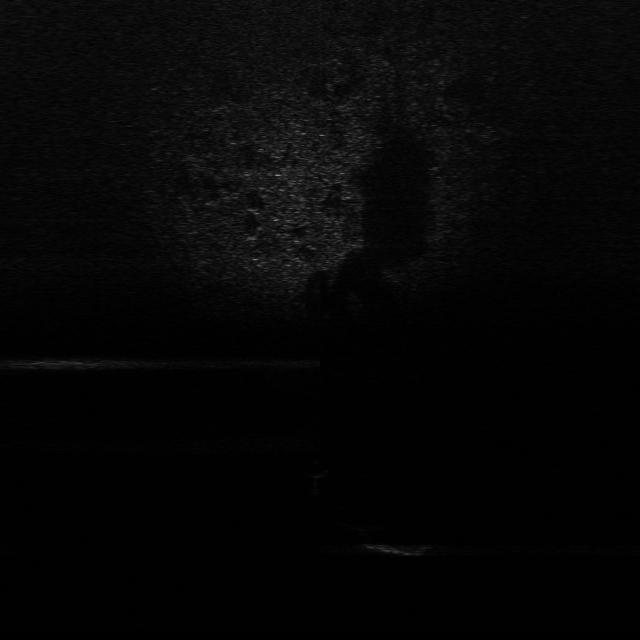ball: (293, 458, 332, 479)
metal bucket: (356, 541, 436, 560)
tyre: (332, 489, 391, 532)
